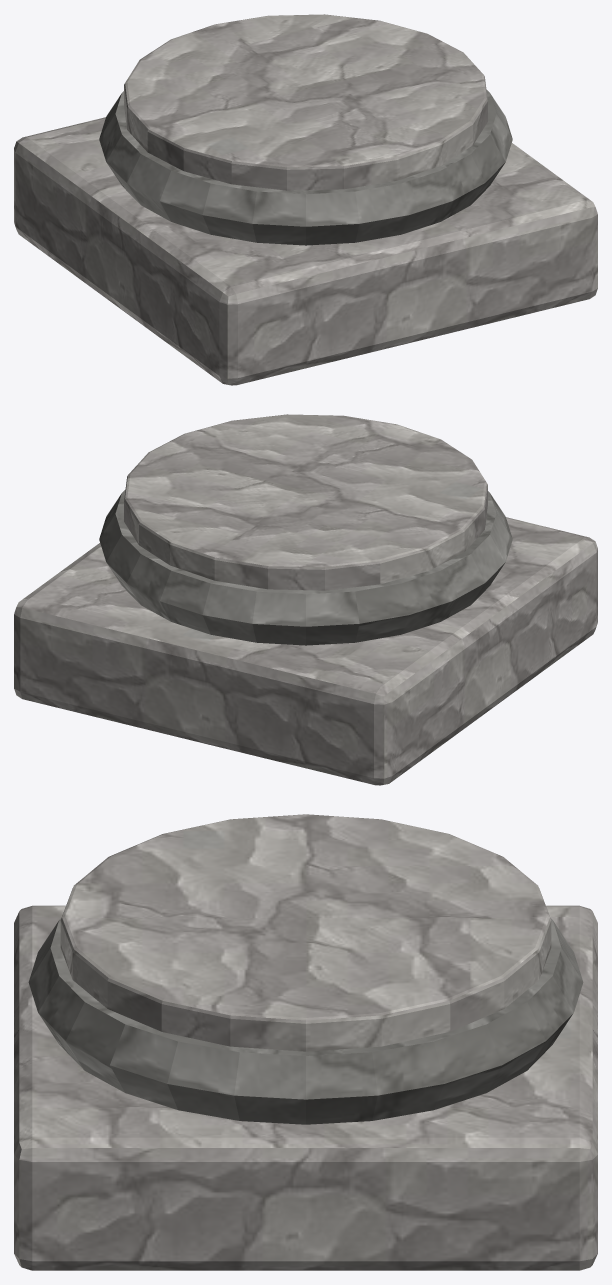
The model's file is column_base__plank_root.glb.
The picture shows the model from 3 angles, top to bottom: view 1: azimuth 30°, elevation 25°; view 2: azimuth 150°, elevation 25°; view 3: azimuth 270°, elevation 25°; orthographic projection. The views are drawn at different scales.
Parts seen in each view (by area): view 1: model; view 2: model; view 3: model.
Part boxes in pixels (x1,y1,x2,y2): model: (14, 14, 597, 385); model: (14, 414, 597, 785); model: (14, 814, 597, 1270).
Bounding box in the file's own units: 0.8 × 0.36 × 0.8.
2 materials, 2 textured.
